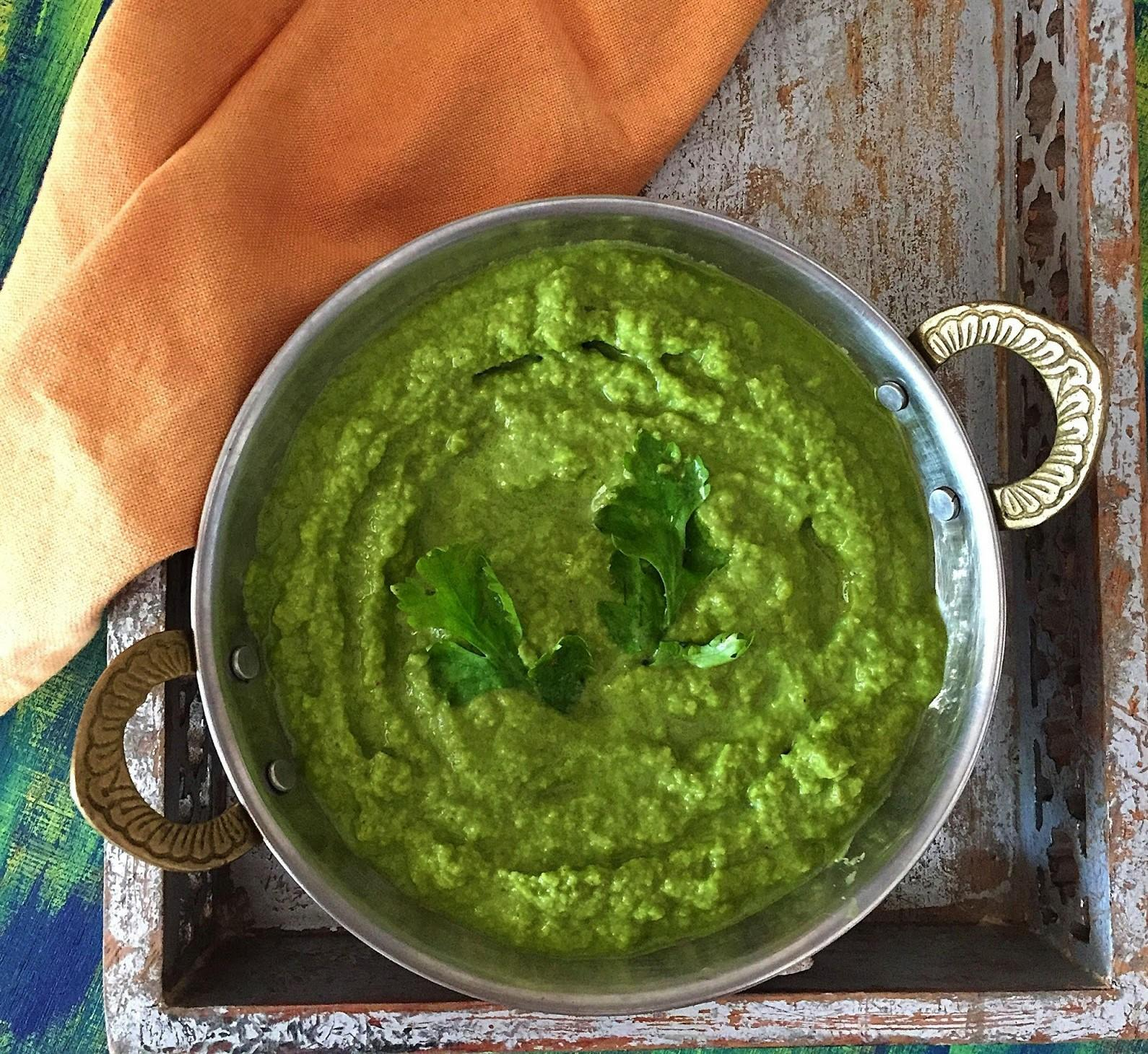GreenChutney: (242, 242, 946, 956)
